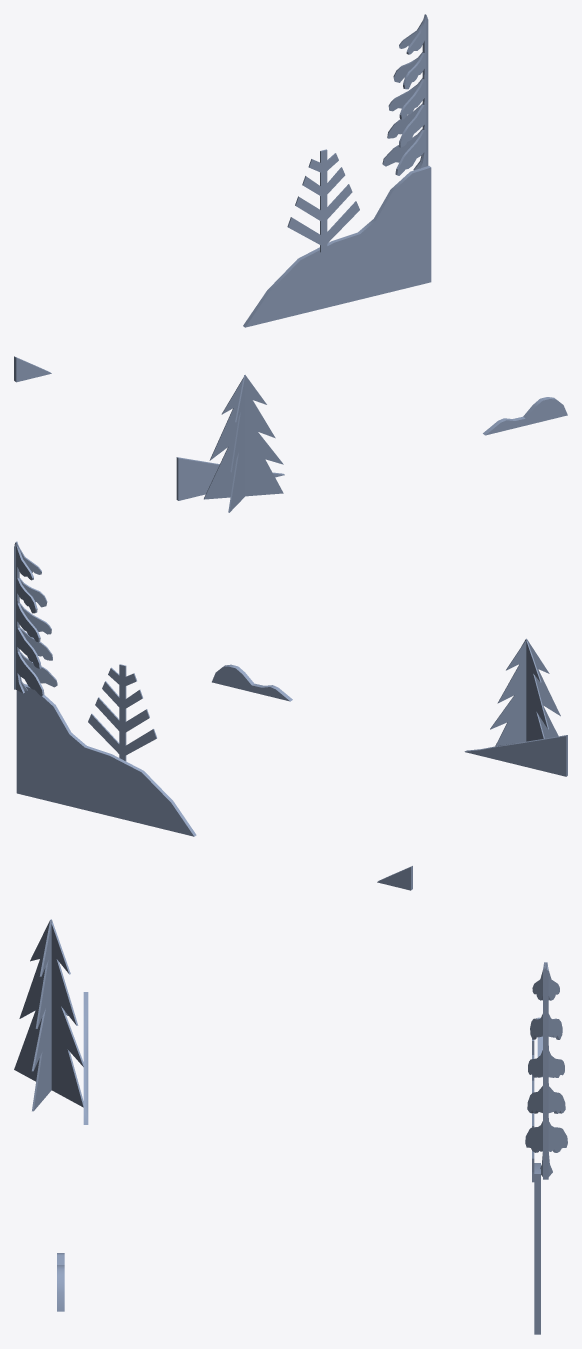
File: frame_0151.glb
3 renders of one model, top to bottom at view 1: azimuth 30°, elevation 25°; view 2: azimuth 150°, elevation 25°; view 3: azimuth 270°, elevation 25°, orthographic. The views are drawn at different scales.
Visible parts, largest first — view 1: export_trees_001.002; view 2: export_trees_001.002; view 3: export_trees_001.002.
Part boxes in pixels (bbox=[...]): export_trees_001.002: bbox=[14, 14, 567, 512]; export_trees_001.002: bbox=[14, 541, 567, 890]; export_trees_001.002: bbox=[14, 919, 567, 1334].
Bounding box in the file's own units: 0.4327 × 0.2648 × 0.3582.
